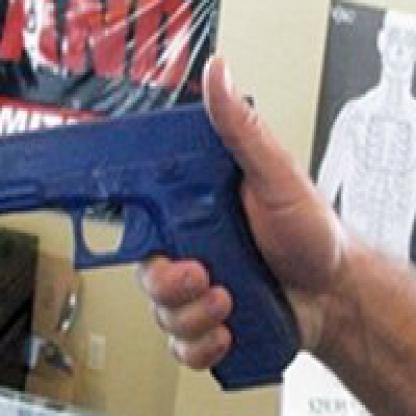gun: (0, 83, 306, 413)
